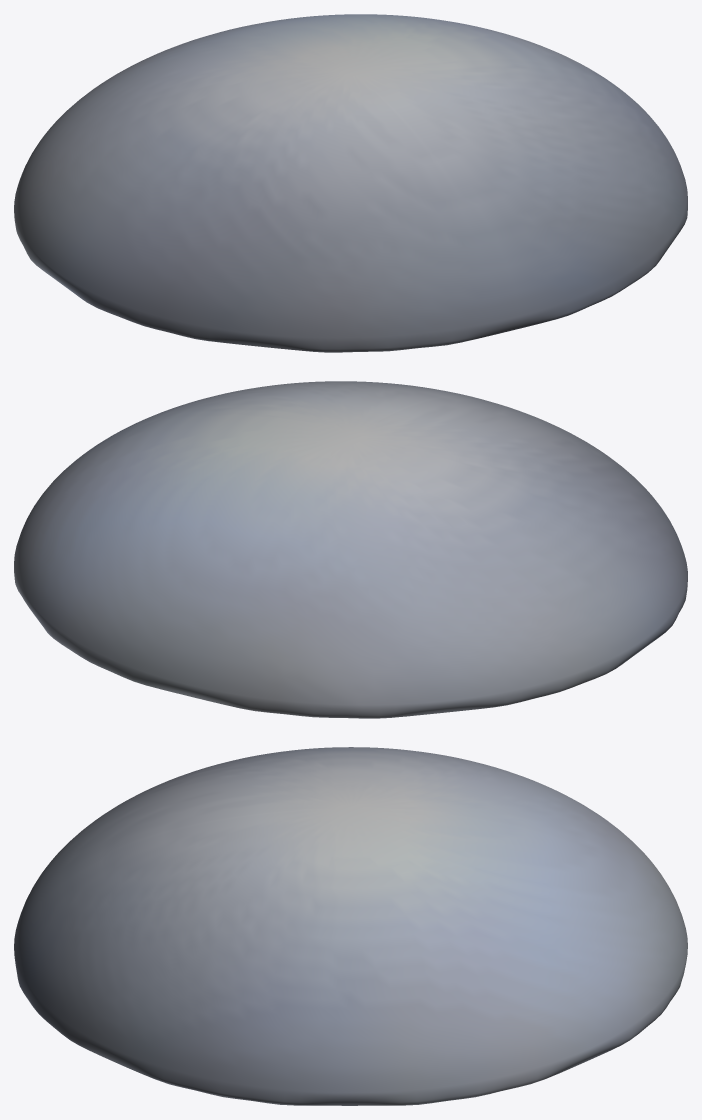
The model's file is CHRISTIANTATIS_TREE.glb.
3 views of the same model, one above another, from view 1: azimuth 30°, elevation 25°; view 2: azimuth 150°, elevation 25°; view 3: azimuth 270°, elevation 25° (orthographic). The views are drawn at different scales.
Visible parts, largest first — view 1: SKY_SPHERE; view 2: SKY_SPHERE; view 3: SKY_SPHERE.
Part boxes in pixels (x1,y1,x2,y2): SKY_SPHERE: [14, 14, 687, 352]; SKY_SPHERE: [14, 381, 687, 718]; SKY_SPHERE: [14, 747, 687, 1105].
Size of the model in its own units: 215 by 53.51 by 204.
Materials: 13 (6 with a texture image).
